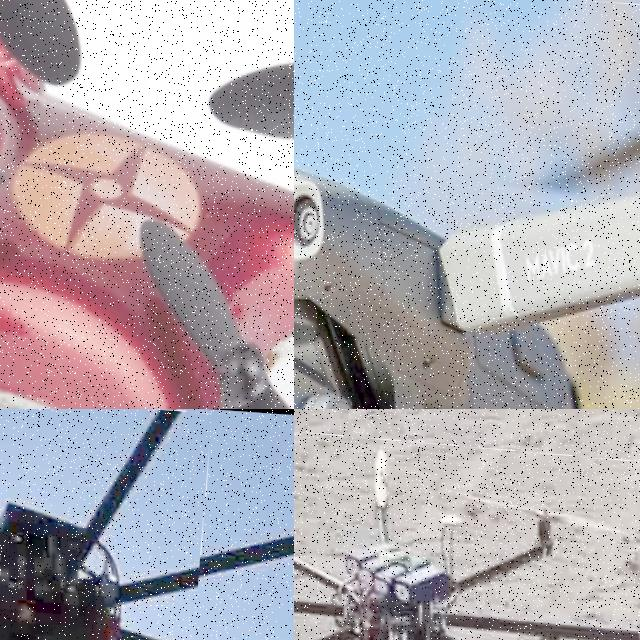drone: (294, 0, 640, 409), (0, 0, 294, 409), (294, 425, 640, 640), (0, 409, 210, 640)
